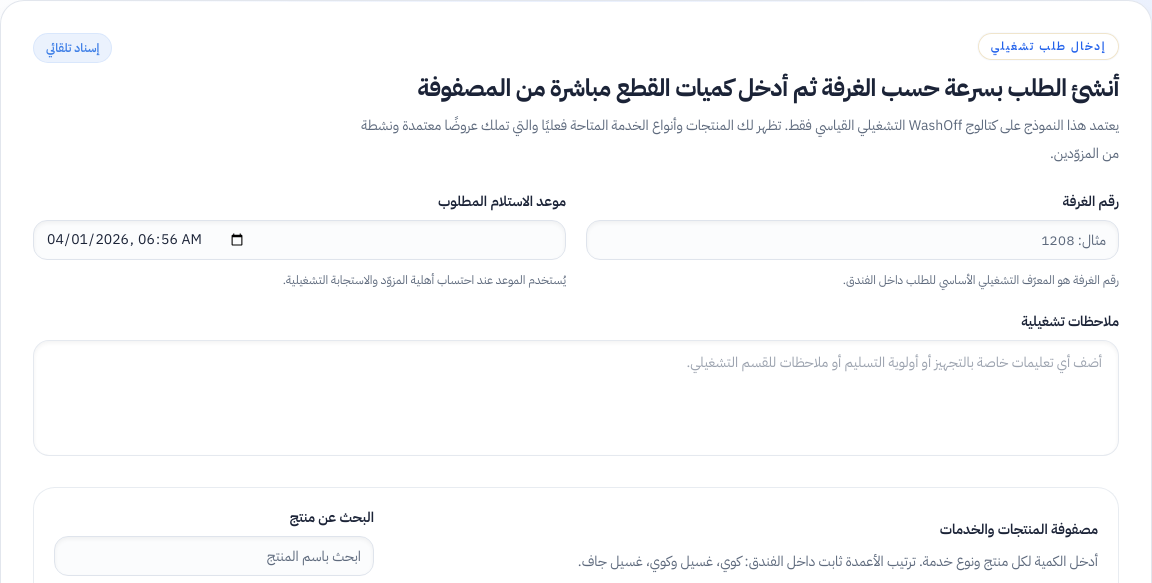
HotelOrderForm › requires at least one quantity in the matrix before submission
Type "818" into the field with placeholder "مثال: 1208" at (852, 240), box [586,220,1119,260]
(page scrolled)
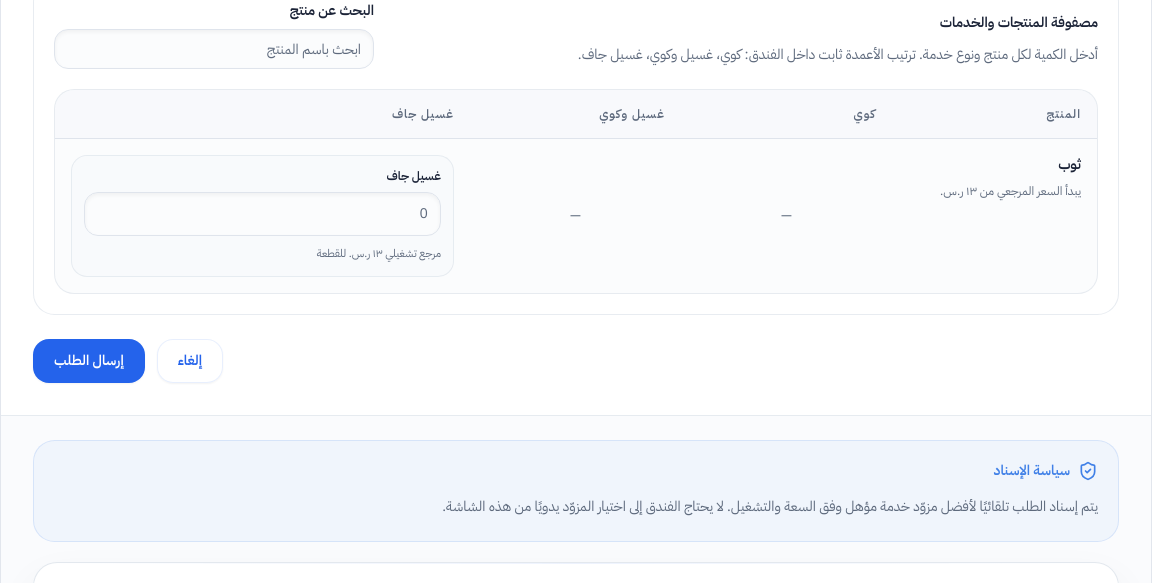
Click the button "إرسال الطلب" at (89, 361), box [33,339,145,383]
(page scrolled)
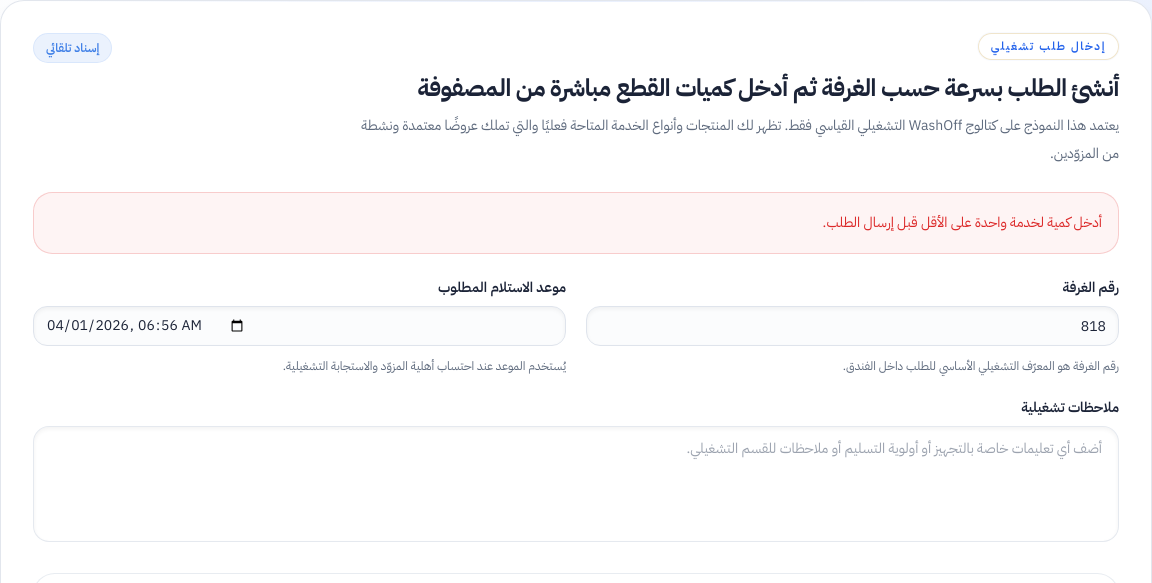
Now the text "أدخل كمية لخدمة واحدة على الأقل قبل إرسال الطلب." is shown, box [33,192,1119,254]
